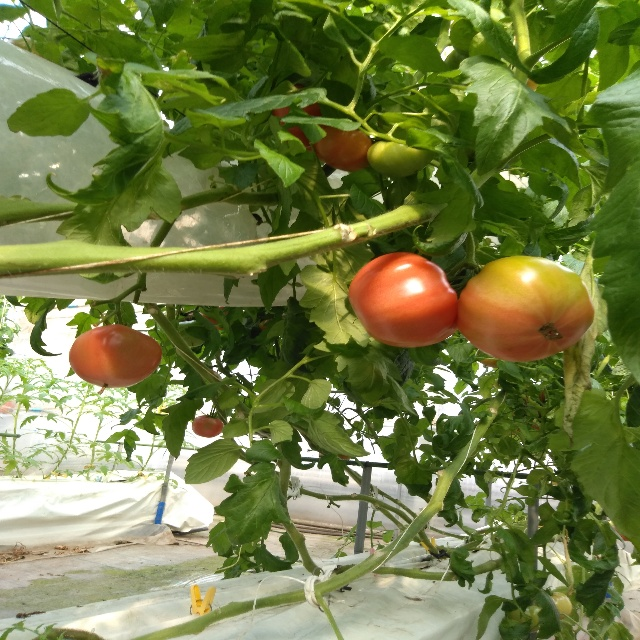b_fully_ripened: (347, 252, 459, 349)
b_green: (366, 140, 434, 178), (509, 605, 542, 632), (548, 592, 572, 620)
b_half_ripened: (456, 255, 595, 362), (69, 324, 161, 389), (312, 124, 372, 172), (191, 416, 223, 438)
